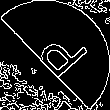P_SW: (23, 25, 87, 85)
